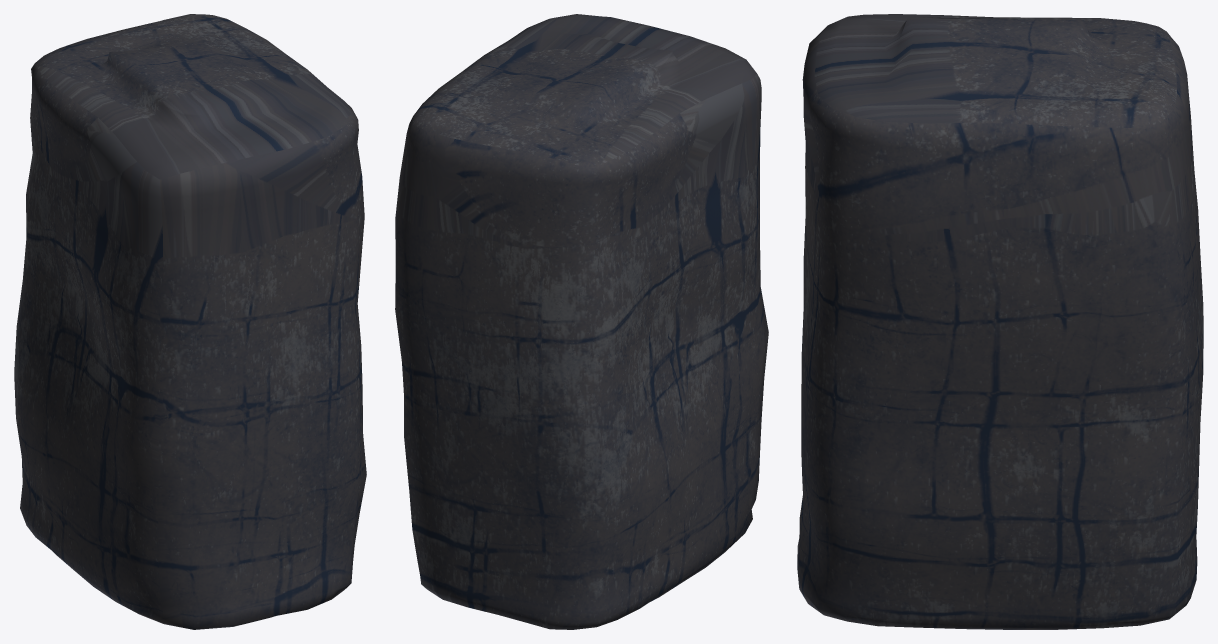
The model's file is obstacle_grand1.OBJ.
3 renders of one model, left to right at view 1: azimuth 30°, elevation 25°; view 2: azimuth 150°, elevation 25°; view 3: azimuth 270°, elevation 25°, orthographic. The views are drawn at different scales.
Visible parts, largest first — view 1: obstacle_grand1:ZBrush_defualt_group; view 2: obstacle_grand1:ZBrush_defualt_group; view 3: obstacle_grand1:ZBrush_defualt_group.
Part boxes in pixels (<box>): obstacle_grand1:ZBrush_defualt_group: <box>14,14,366,629</box>; obstacle_grand1:ZBrush_defualt_group: <box>395,14,768,629</box>; obstacle_grand1:ZBrush_defualt_group: <box>797,14,1203,629</box>.
Size of the model in its own units: 1870 by 3432 by 2353.
1 material, 1 textured.
